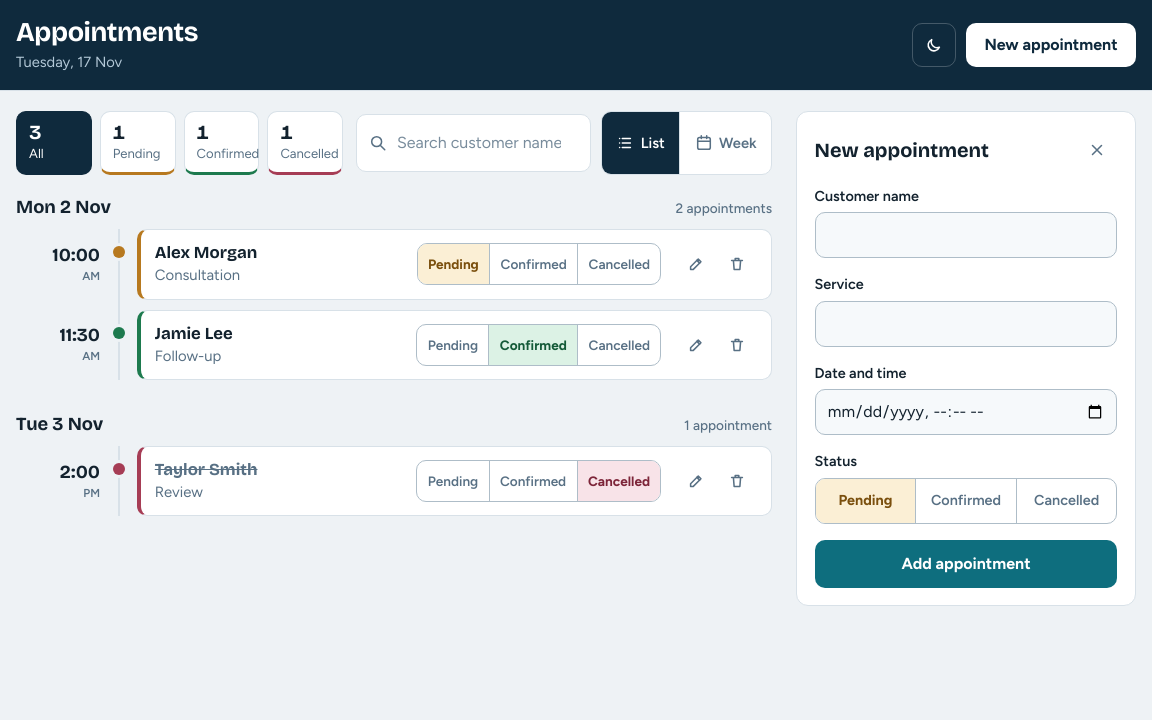
Scenario: Appointment Manager UI › edits an appointment through the form
Expected: the text "Alex Morgan" is shown, [155, 242, 257, 263]
Click the button named "Edit Alex Morgan" at (696, 264), box [676, 244, 716, 284]
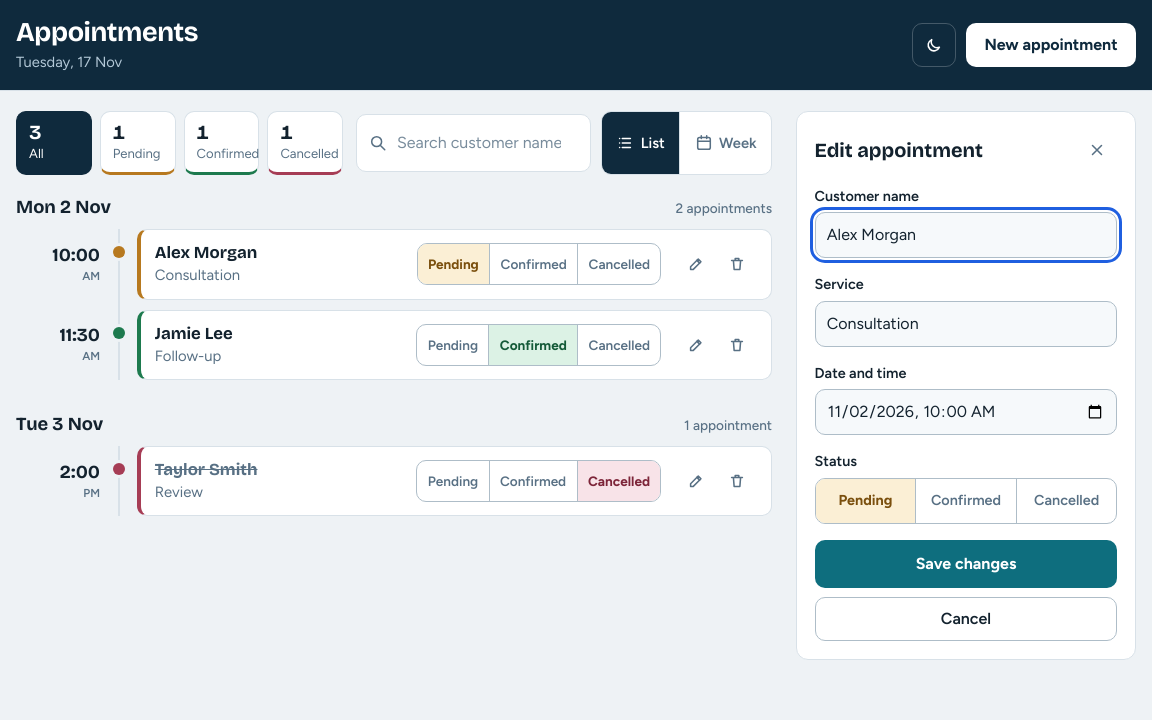
Expected: the heading "Edit appointment" is shown, [815, 138, 983, 162]
Expected: the field labelled "Customer name" holds "Alex Morgan"
Replace the text in the field labelled "Customer name" with "Alex M." at (966, 235), box [815, 212, 1117, 258]
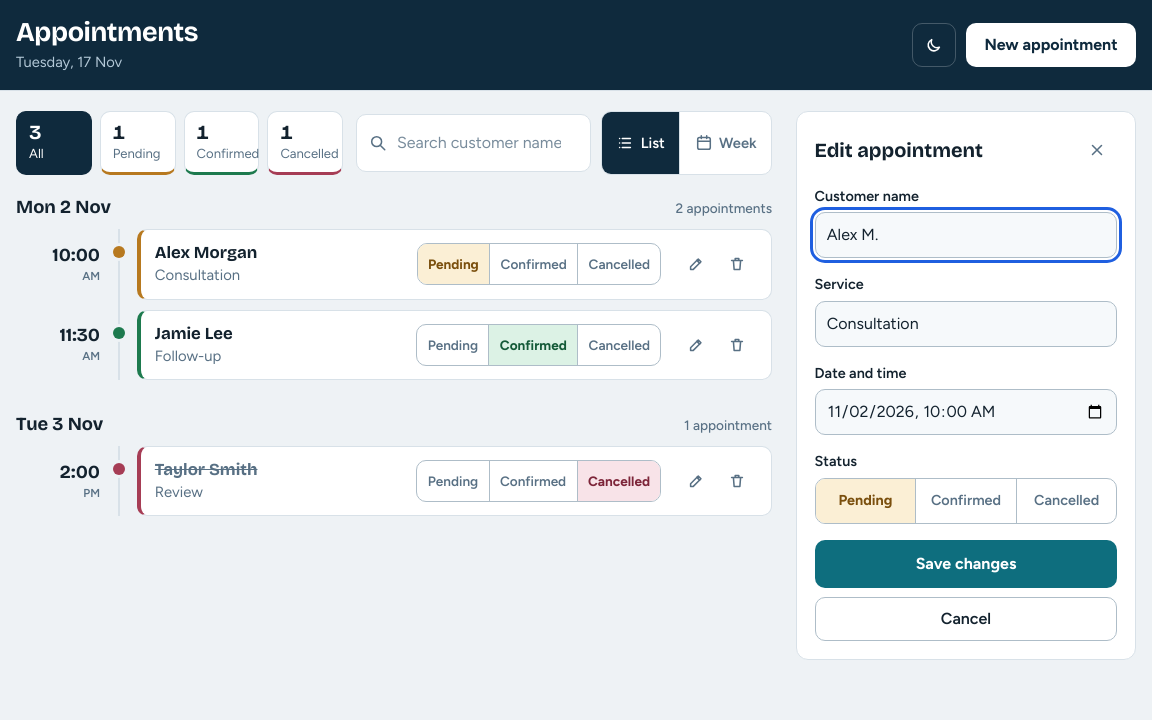
Click the button "Save changes" at (966, 564), box [815, 540, 1117, 588]
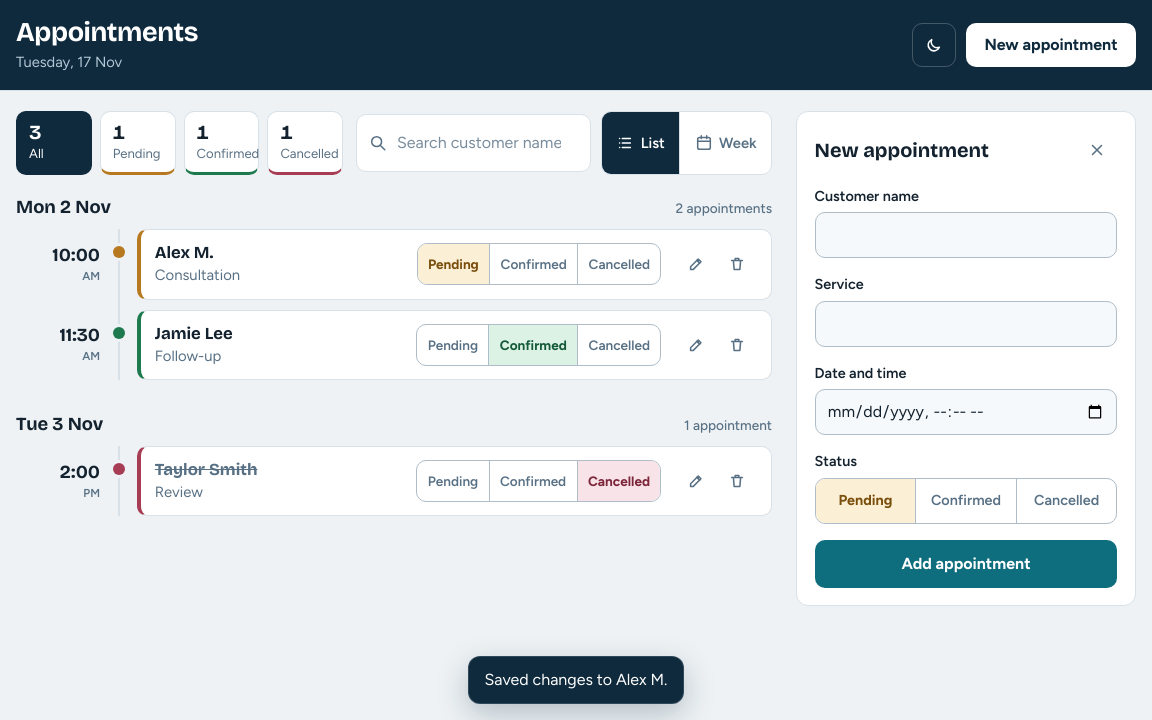
Expected: the text "Saved changes to Alex M." is shown, [484, 668, 667, 692]
Expected: the element "Alex M. Consultation Pending Confirmed Cancelled" is shown, [137, 229, 772, 300]
Expected: the heading "New appointment" is shown, [815, 138, 989, 162]
